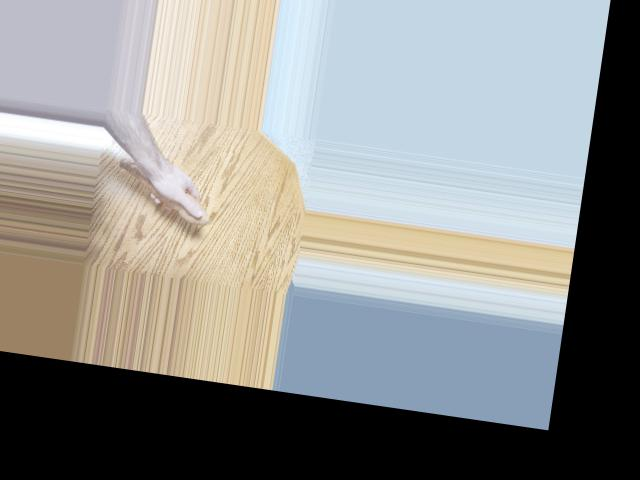sweet_potato: (95, 153, 218, 227)
